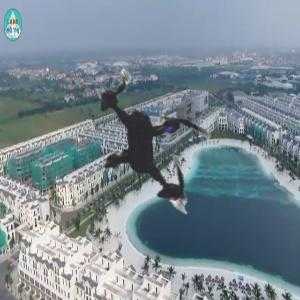drone: (12, 11, 277, 276)
